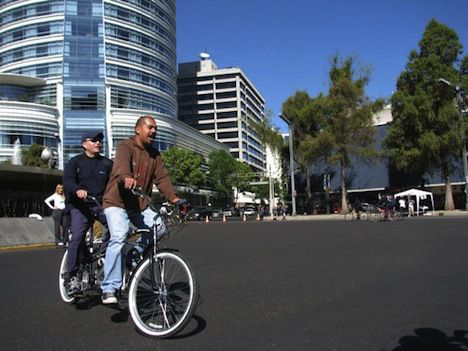bikerider: (49, 106, 209, 344)
